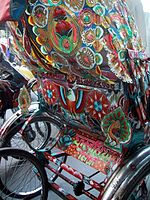Rickshaw: (1, 1, 147, 197)
